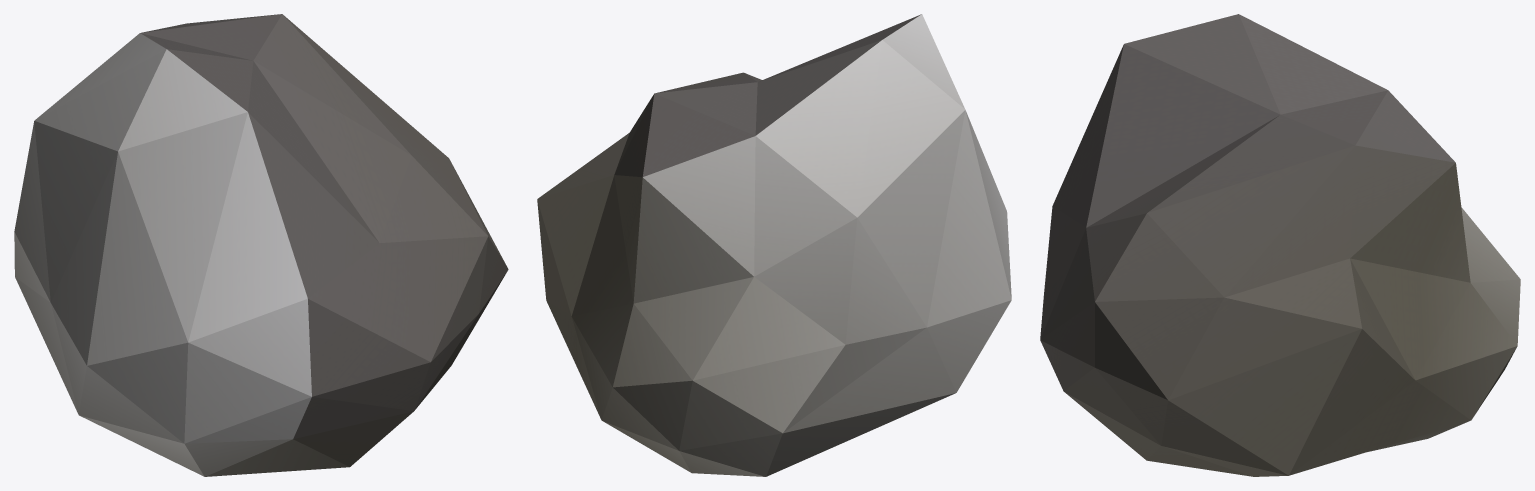
The model's file is rock3.fbx.
3 views of the same model, side by side, from view 1: azimuth 30°, elevation 25°; view 2: azimuth 150°, elevation 25°; view 3: azimuth 270°, elevation 25° (orthographic). The views are drawn at different scales.
Parts seen in each view (by area): view 1: ROCKS.003; view 2: ROCKS.003; view 3: ROCKS.003.
Part boxes in pixels (x1,y1,x2,y2): ROCKS.003: (14,14,508,476); ROCKS.003: (537,14,1011,476); ROCKS.003: (1040,14,1520,476).
Bounding box in the file's own units: 328 × 298 × 336.
